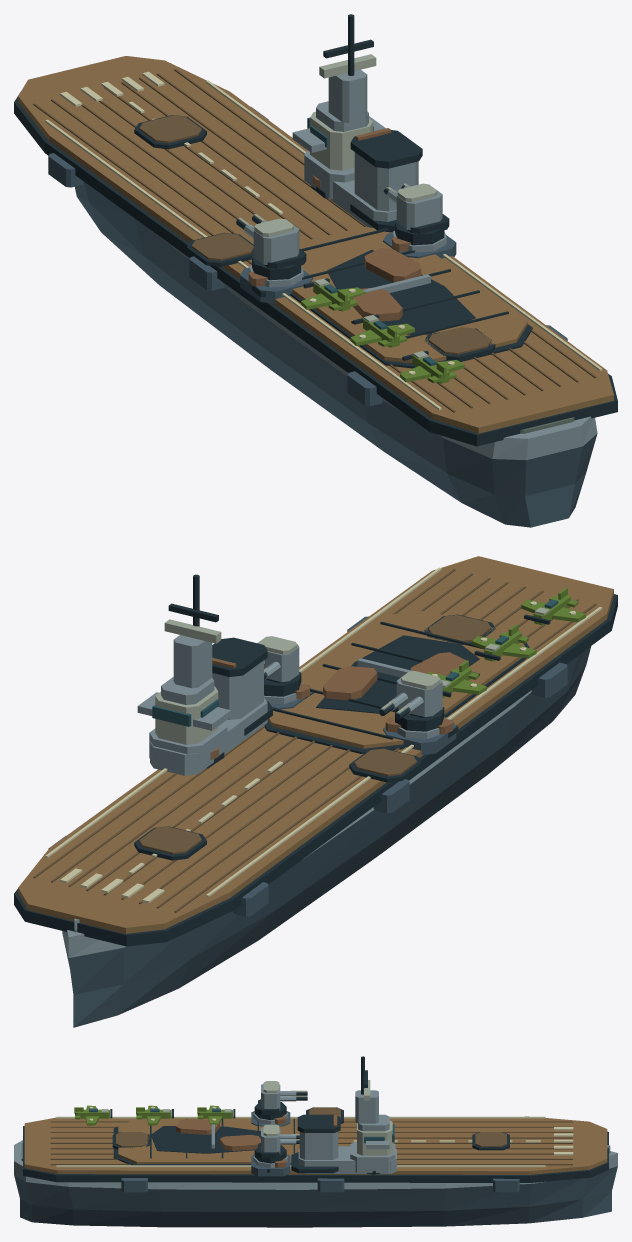
File: historic-essex-long.glb
3 views of the same model, one above another, from view 1: azimuth 30°, elevation 25°; view 2: azimuth 150°, elevation 25°; view 3: azimuth 270°, elevation 25° (orthographic). The views are drawn at different scales.
Visible parts, largest first — view 1: historic-essex-long-historic-essex-long-geometry, historic-essex-long-part_flight-deck.014-geometry, historic-essex-long-part_bridge.072-geometry, historic-essex-long-ruin_flight-deck.013-geometry, historic-essex-long-historic_funnel_0.075-geometry, historic-essex-long-turret_aa_aa-port.076-geometry, historic-essex-long-turret_aa_aa-starboard.072-geometry, historic-essex-long-aircraft_lift_0.014-geometry, historic-essex-long-aircraft_lift_1.014-geometry, historic-essex-long-aircraft_lift_2.011-geometry, historic-essex-long-parked_aircraft_0.014-geometry, historic-essex-long-parked_aircraft_1.014-geometry (+3 smaller); view 2: historic-essex-long-historic-essex-long-geometry, historic-essex-long-part_flight-deck.014-geometry, historic-essex-long-part_bridge.072-geometry, historic-essex-long-ruin_flight-deck.013-geometry, historic-essex-long-historic_funnel_0.075-geometry, historic-essex-long-turret_aa_aa-port.076-geometry, historic-essex-long-turret_aa_aa-starboard.072-geometry, historic-essex-long-aircraft_lift_1.014-geometry, historic-essex-long-aircraft_lift_0.014-geometry, historic-essex-long-aircraft_lift_2.011-geometry, historic-essex-long-parked_aircraft_1.014-geometry, historic-essex-long-parked_aircraft_0.014-geometry (+2 smaller); view 3: historic-essex-long-historic-essex-long-geometry, historic-essex-long-part_flight-deck.014-geometry, historic-essex-long-historic_funnel_0.075-geometry, historic-essex-long-part_bridge.072-geometry, historic-essex-long-ruin_flight-deck.013-geometry, historic-essex-long-turret_aa_aa-port.076-geometry, historic-essex-long-turret_aa_aa-starboard.072-geometry, historic-essex-long-aircraft_lift_0.014-geometry, historic-essex-long-part_aa-starboard.072-geometry, historic-essex-long-aircraft_lift_2.011-geometry, historic-essex-long-parked_aircraft_0.014-geometry, historic-essex-long-parked_aircraft_2.014-geometry (+3 smaller).
Part boxes in pixels (x1,y1,x2,y2): historic-essex-long-historic-essex-long-geometry: [14, 56, 617, 527]; historic-essex-long-part_flight-deck.014-geometry: [290, 227, 532, 368]; historic-essex-long-part_bridge.072-geometry: [292, 14, 385, 199]; historic-essex-long-ruin_flight-deck.013-geometry: [327, 248, 475, 334]; historic-essex-long-historic_funnel_0.075-geometry: [330, 128, 422, 232]; historic-essex-long-turret_aa_aa-port.076-geometry: [236, 214, 306, 280]; historic-essex-long-turret_aa_aa-starboard.072-geometry: [383, 183, 449, 245]; historic-essex-long-aircraft_lift_0.014-geometry: [134, 115, 206, 149]; historic-essex-long-aircraft_lift_1.014-geometry: [186, 232, 253, 266]; historic-essex-long-aircraft_lift_2.011-geometry: [424, 327, 495, 360]; historic-essex-long-parked_aircraft_0.014-geometry: [400, 350, 464, 383]; historic-essex-long-parked_aircraft_1.014-geometry: [350, 314, 414, 347]; historic-essex-long-historic-essex-long-geometry: [14, 556, 617, 1027]; historic-essex-long-part_flight-deck.014-geometry: [264, 610, 529, 753]; historic-essex-long-part_bridge.072-geometry: [137, 574, 230, 771]; historic-essex-long-ruin_flight-deck.013-geometry: [316, 635, 479, 713]; historic-essex-long-historic_funnel_0.075-geometry: [150, 637, 272, 775]; historic-essex-long-turret_aa_aa-port.076-geometry: [379, 671, 444, 731]; historic-essex-long-turret_aa_aa-starboard.072-geometry: [257, 636, 301, 696]; historic-essex-long-aircraft_lift_1.014-geometry: [349, 748, 421, 782]; historic-essex-long-aircraft_lift_0.014-geometry: [134, 826, 206, 860]; historic-essex-long-aircraft_lift_2.011-geometry: [424, 614, 495, 644]; historic-essex-long-parked_aircraft_1.014-geometry: [472, 624, 536, 661]; historic-essex-long-parked_aircraft_0.014-geometry: [521, 588, 585, 625]; historic-essex-long-historic-essex-long-geometry: [14, 1116, 617, 1227]; historic-essex-long-part_flight-deck.014-geometry: [113, 1118, 299, 1165]; historic-essex-long-historic_funnel_0.075-geometry: [291, 1114, 396, 1173]; historic-essex-long-part_bridge.072-geometry: [350, 1056, 395, 1172]; historic-essex-long-ruin_flight-deck.013-geometry: [151, 1119, 260, 1153]; historic-essex-long-turret_aa_aa-port.076-geometry: [254, 1081, 307, 1120]; historic-essex-long-turret_aa_aa-starboard.072-geometry: [254, 1124, 299, 1163]; historic-essex-long-aircraft_lift_0.014-geometry: [472, 1132, 509, 1150]; historic-essex-long-part_aa-starboard.072-geometry: [251, 1154, 290, 1176]; historic-essex-long-aircraft_lift_2.011-geometry: [112, 1132, 149, 1149]; historic-essex-long-parked_aircraft_0.014-geometry: [74, 1105, 112, 1125]; historic-essex-long-parked_aircraft_2.014-geometry: [197, 1105, 235, 1124].
Bounding box in the file's own units: 1.56 × 1.92 × 5.89.
